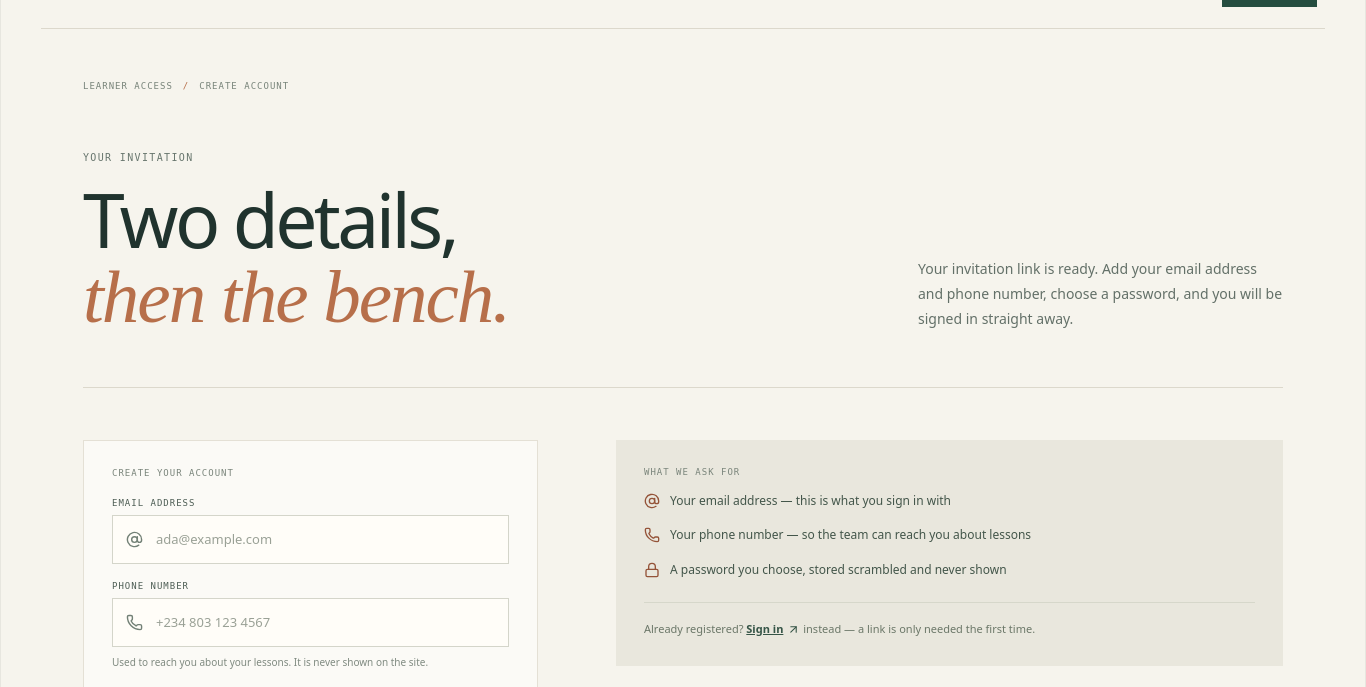
Test: sign-up form › checks the details in the browser before spending a round trip
The image size is (1366, 687).
In the field labelled "Email address": [324, 539] box [154,529,495,549], type "ada@"
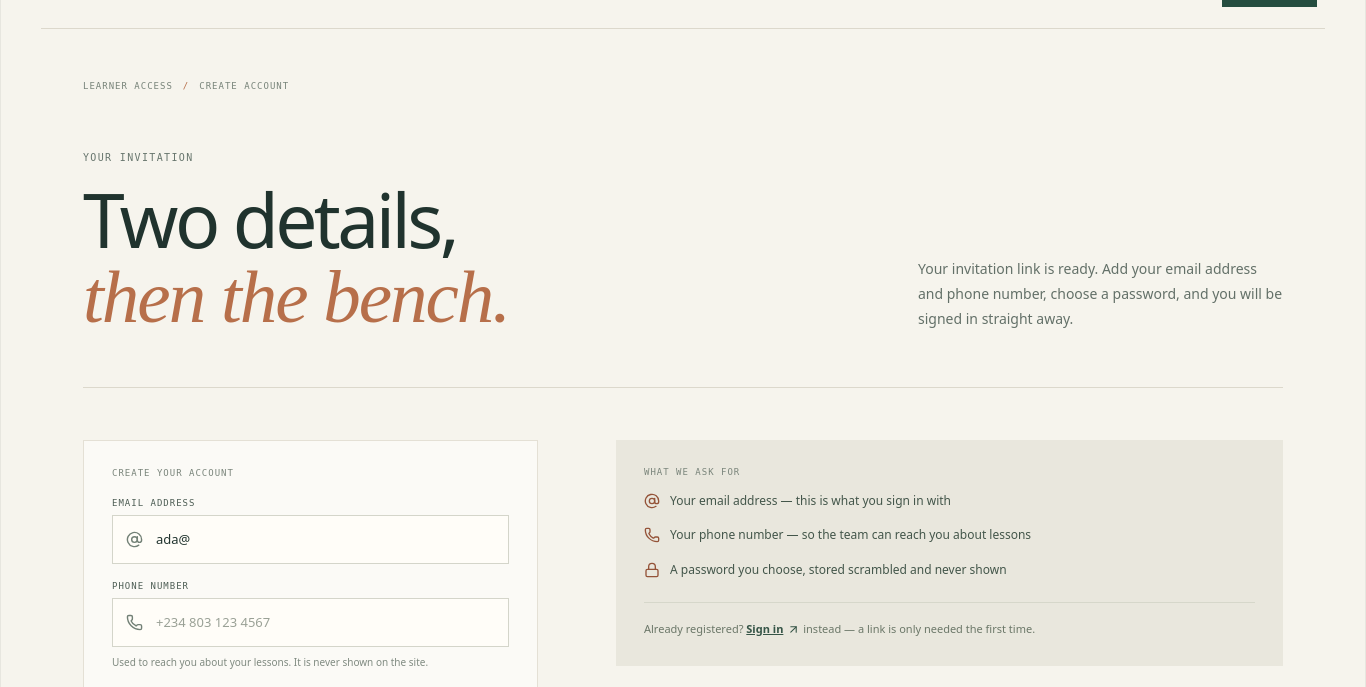
In the field labelled "Phone number": [324, 622] box [154,612,495,632], type "12"
(page scrolled)
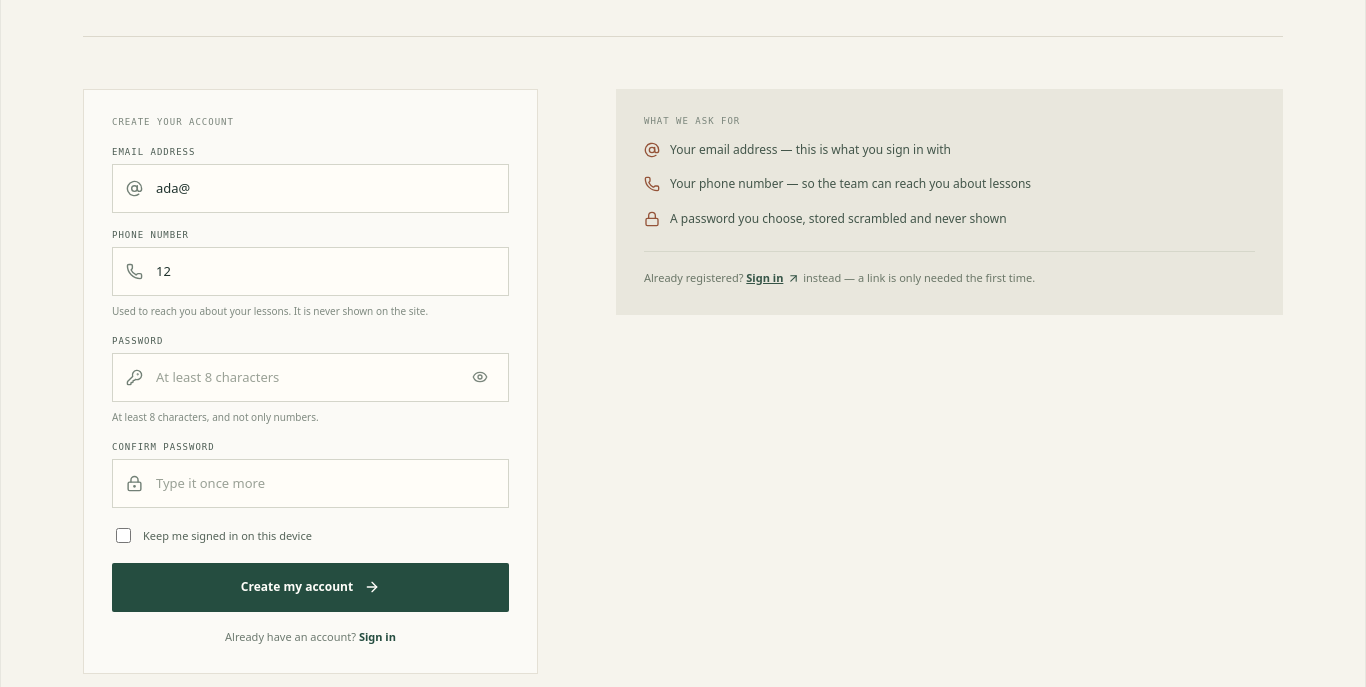
In the password field labelled "Password": [304, 377] box [154,367,454,387], type "1234567"
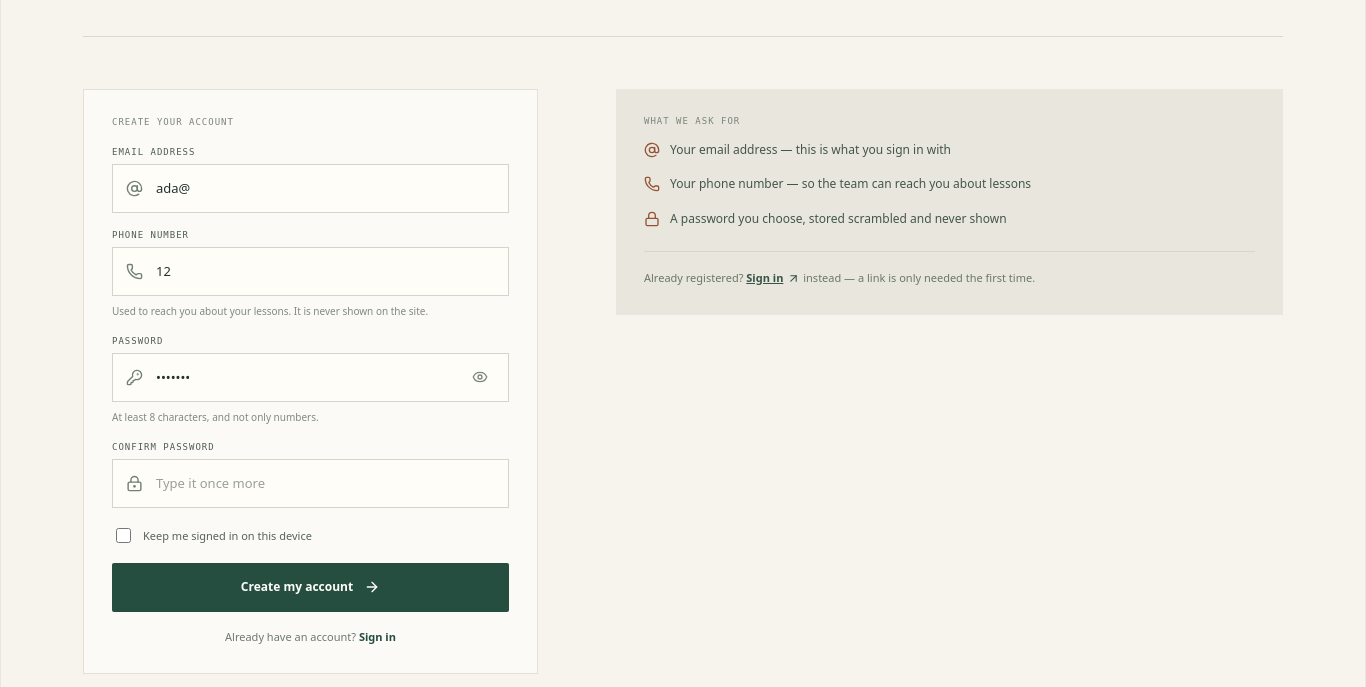
In the password field labelled "Confirm password": [324, 483] box [154,473,495,493], type "1234567"
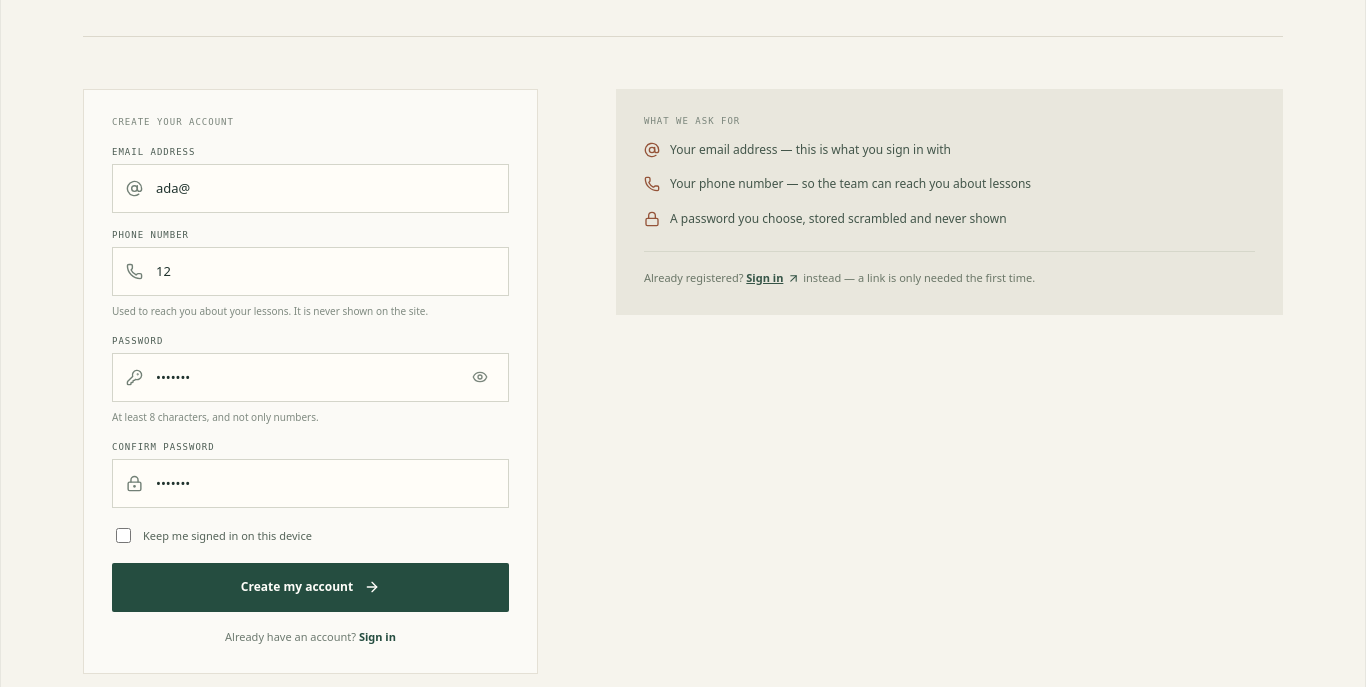
Click the button "Create my account": [310, 587] box [112,562,509,612]
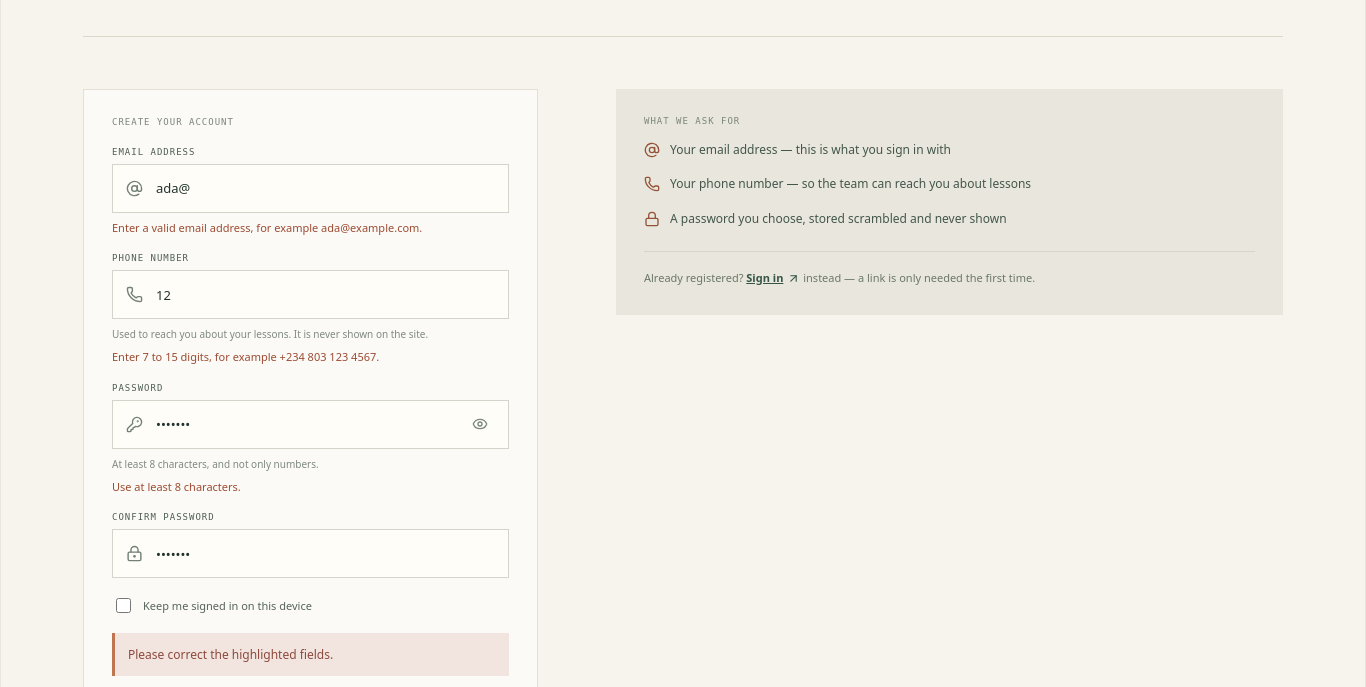
Expected: the text "Enter a valid email address, for example ada@example.com." is shown, [112,220,422,234]
Expected: the text "Enter 7 to 15 digits, for example +234 803 123 4567." is shown, [112,349,379,364]
Expected: the text "Use at least 8 characters." is shown, [112,478,241,494]
